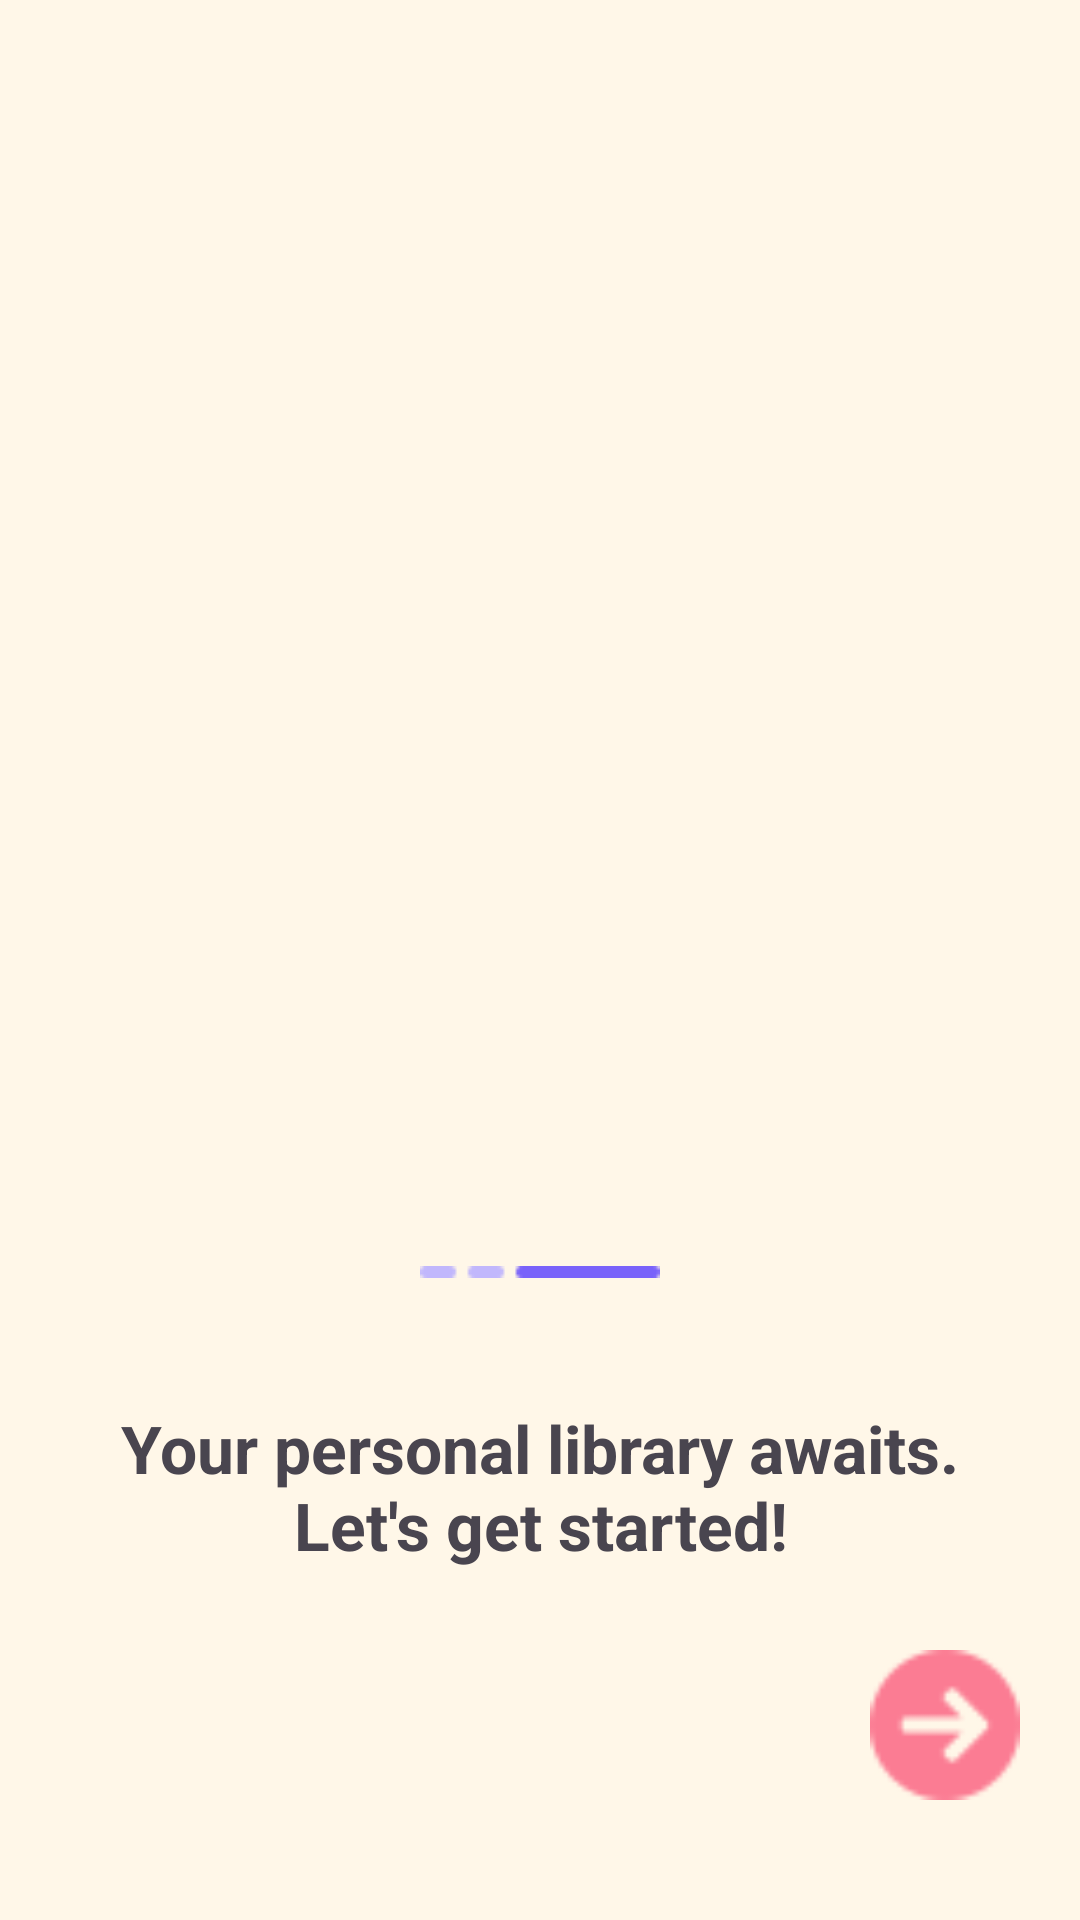

Screen size 1080px×1920px. Icon name, then its center in pixels as (x=x, y=y):
arrow: (x=945, y=1725)
